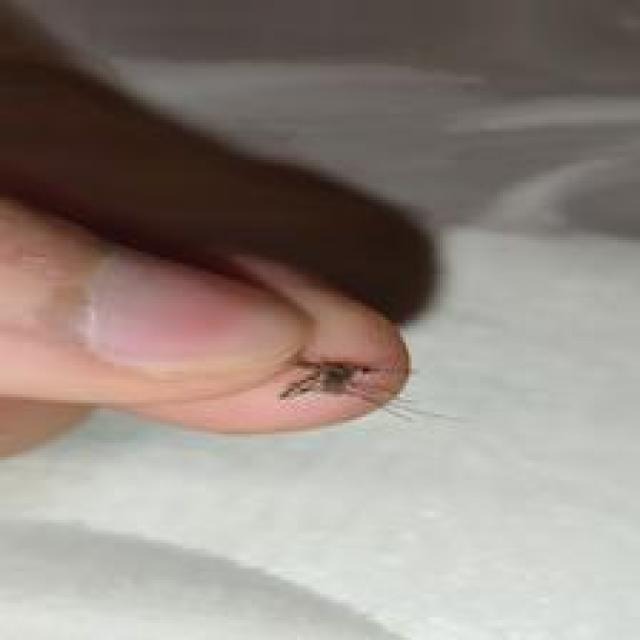Culex: (0, 0, 443, 329)
